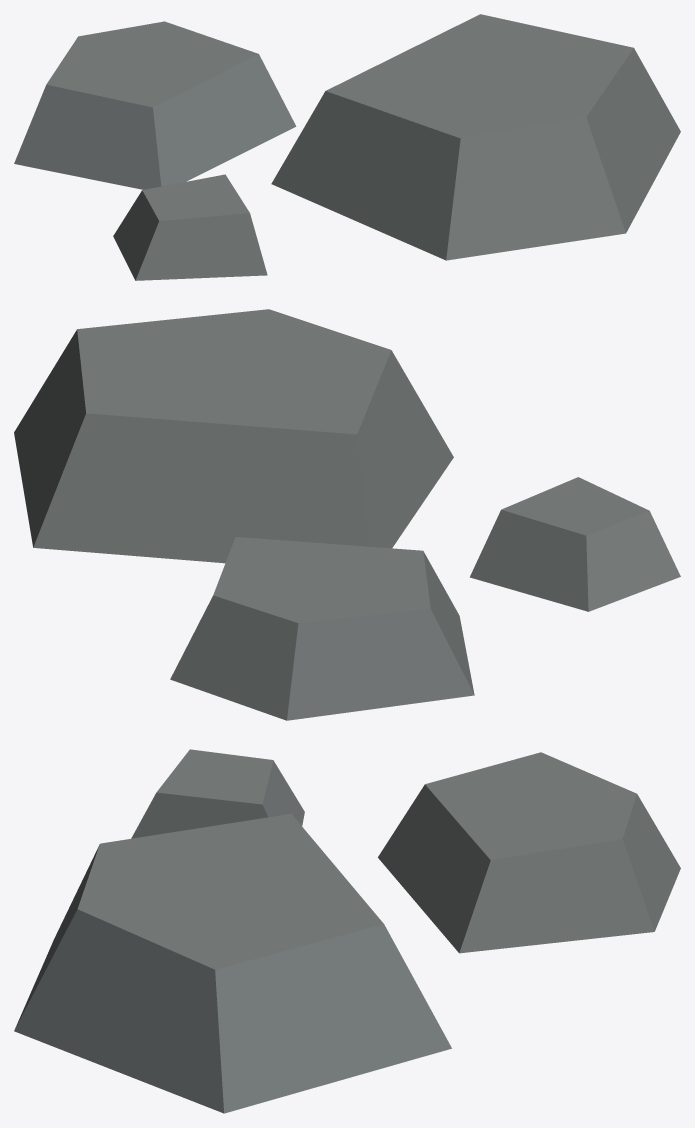
File: SM_Env_Generic_River_Stone_02.glb
3 views of the same model, one above another, from view 1: azimuth 30°, elevation 25°; view 2: azimuth 150°, elevation 25°; view 3: azimuth 270°, elevation 25° (orthographic). The views are drawn at different scales.
Parts seen in each view (by area): view 1: SM_Env_Generic_River_Stone_02; view 2: SM_Env_Generic_River_Stone_02; view 3: SM_Env_Generic_River_Stone_02.
Boxes of the visible parts, x1,y1,x2,y2 form: SM_Env_Generic_River_Stone_02: (14,14,680,280); SM_Env_Generic_River_Stone_02: (14,309,680,720); SM_Env_Generic_River_Stone_02: (14,749,680,1113).
Size of the model in its own units: 0.6102 by 0.1029 by 0.5409.
Materials: 1 (1 with a texture image).
